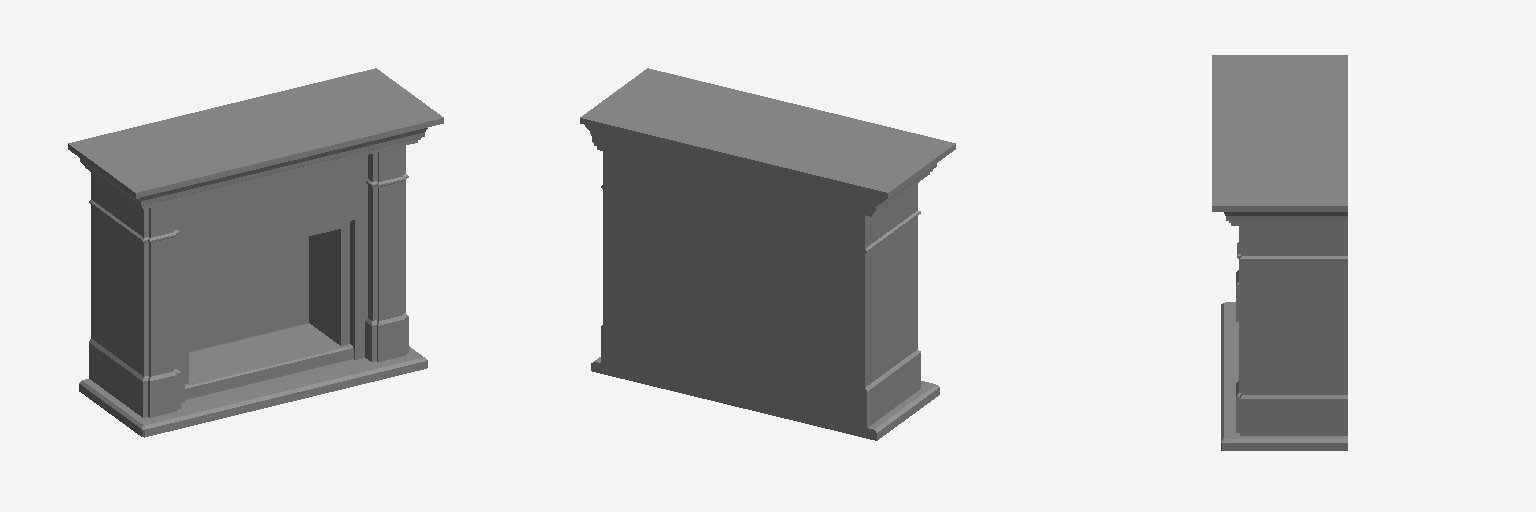
Rendered from fireplace.obj.
The picture shows the model from 3 angles: view 1: azimuth 30°, elevation 25°; view 2: azimuth 150°, elevation 25°; view 3: azimuth 270°, elevation 25°; orthographic projection.
Parts seen in each view (by area): view 1: fireplace; view 2: fireplace; view 3: fireplace.
Boxes of the visible parts, box(x1,y1,x2,y2) form: fireplace: box(68, 68, 443, 437); fireplace: box(580, 68, 955, 440); fireplace: box(1212, 55, 1347, 450).
Size of the model in its own units: 67.12 by 52.13 by 25.57.